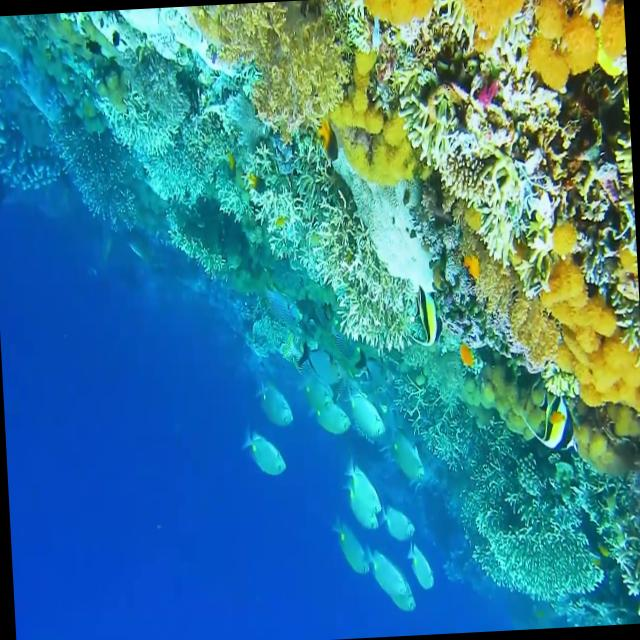fish: (376, 418, 430, 497), (522, 384, 578, 456), (396, 284, 449, 352), (245, 379, 298, 444), (346, 367, 388, 444), (338, 474, 382, 546), (293, 339, 348, 394), (364, 535, 406, 606), (346, 453, 389, 520), (330, 513, 376, 574), (239, 432, 292, 484), (401, 539, 438, 603), (382, 500, 424, 550), (313, 402, 357, 440), (391, 571, 424, 620)
